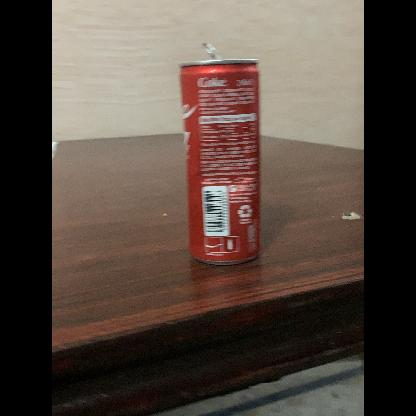Lid_Open: (199, 40, 233, 68)
Tin_Can: (172, 38, 270, 270)
